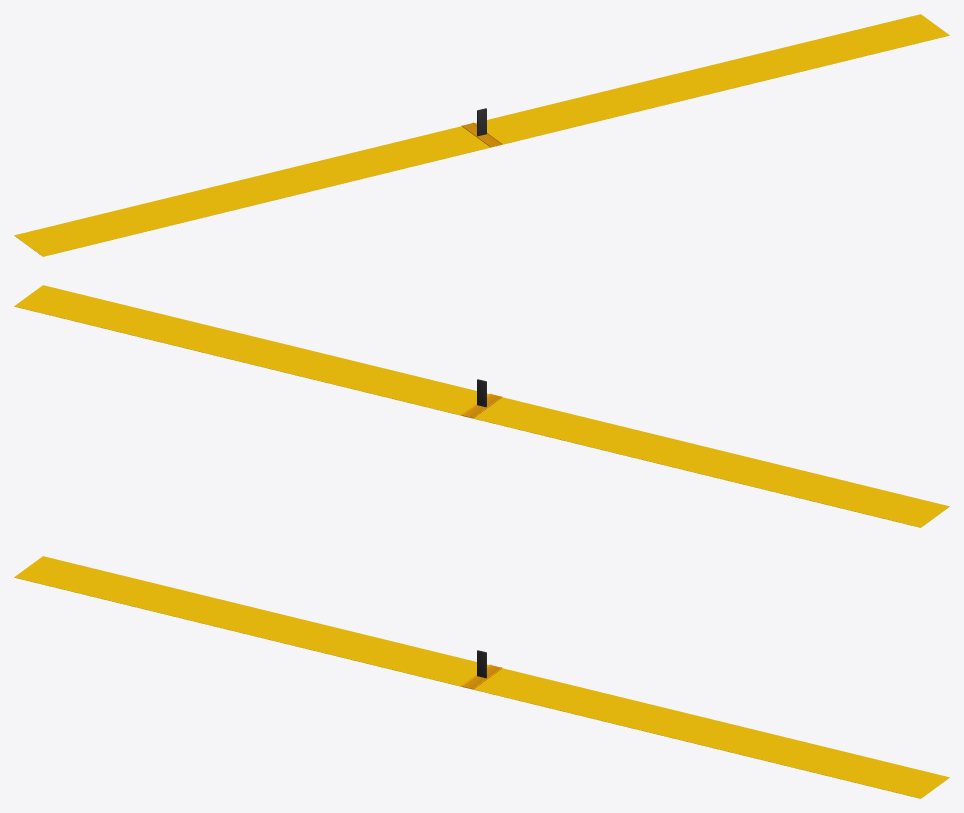
File: BuffaloRun.fbx
3 renders of one model, top to bottom at view 1: azimuth 30°, elevation 25°; view 2: azimuth 150°, elevation 25°; view 3: azimuth 330°, elevation 25°, orthographic.
Parts seen in each view (by area): view 1: Куб; view 2: Куб; view 3: Куб.
Boxes of the visible parts, x1=… form: Куб: x1=14, y1=14, x2=949, y2=256; Куб: x1=14, y1=285, x2=949, y2=527; Куб: x1=14, y1=556, x2=949, y2=798.
Size of the model in its own units: 32656 by 895 by 1814.
